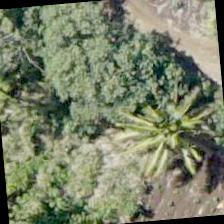Kelapa_Sawit: (120, 87, 218, 185)
